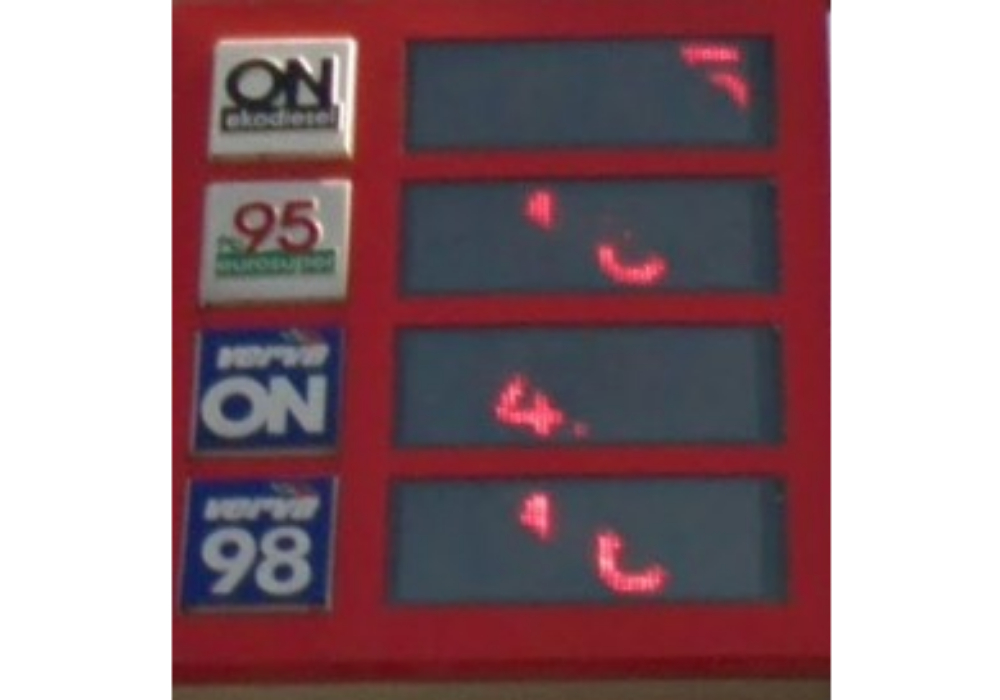ON: (204, 28, 359, 166), (193, 321, 348, 456)
PB95: (203, 175, 356, 308)
PB98: (179, 468, 338, 619)
